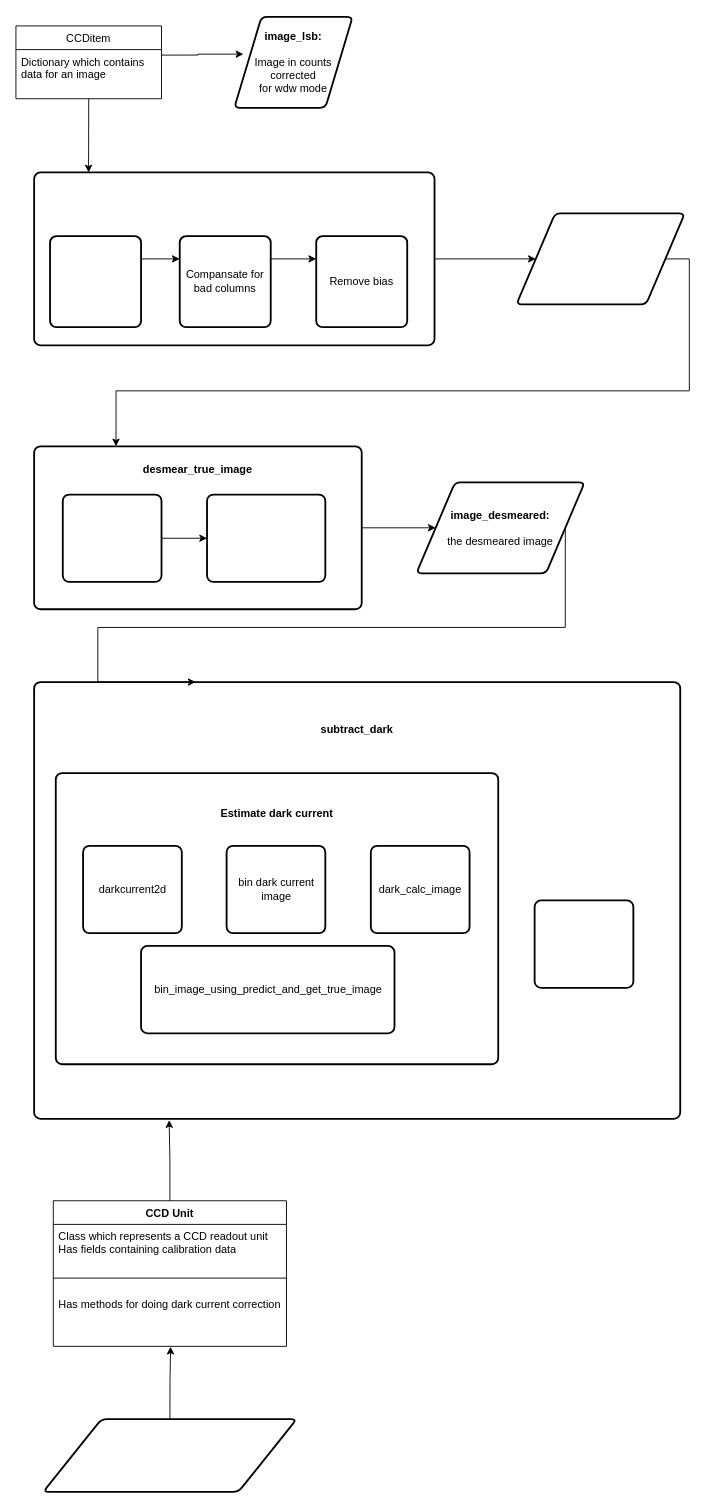
Image size: 713x1508. Some labels were removed from this diagram. Here are the shapes that lost their labels. From the top down, the box of each, then its label:
(33, 171, 435, 346): get_true_image
(515, 212, 685, 305): image_bias_sub: Image corrected for fpga gain and bad columns
(49, 235, 142, 328): Correct for digital (FPGA) gain
(61, 493, 162, 582): Calculate time it takes to read out one row
(206, 493, 326, 582): Start at lowest row and substract the cumulative estimated signal during readout
(533, 899, 634, 988): Subtract dark current
(42, 1418, 297, 1492): Calibration file FM0_XXX_CCD_DC_calibration.mat
